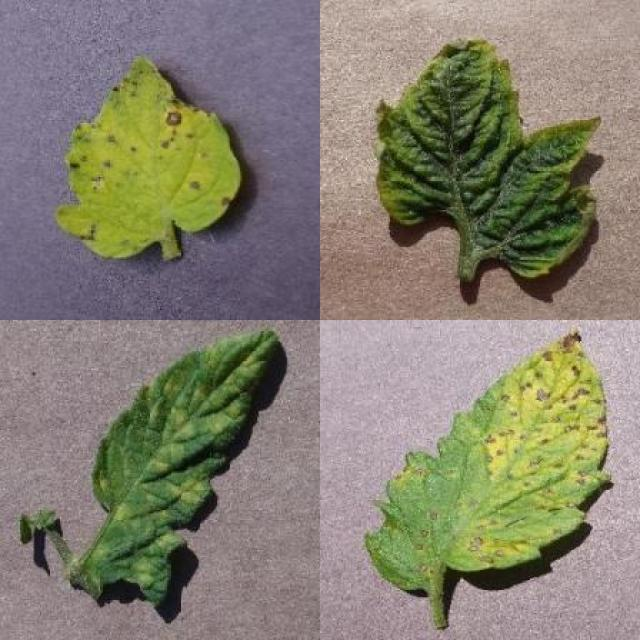Leaf Mold: (76, 326, 276, 604)
Septoria: (366, 328, 611, 588), (54, 54, 242, 256)
Yellow Leaf Curl Virus: (372, 38, 602, 282)
